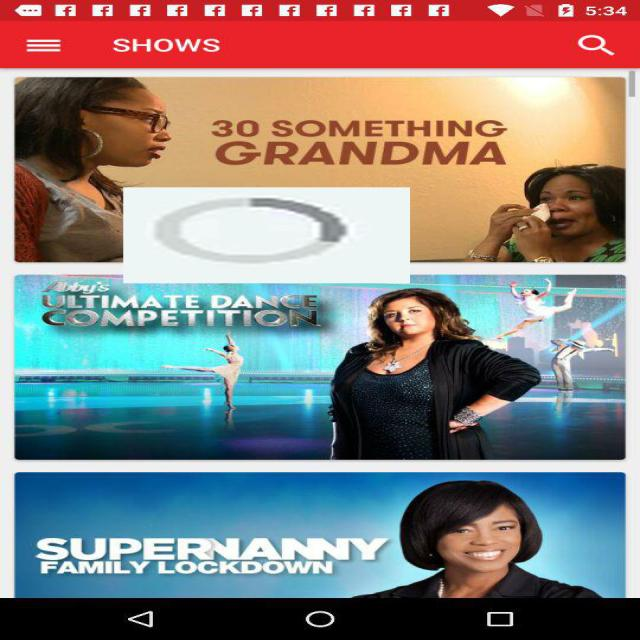misdirection: (123, 188, 410, 284)
